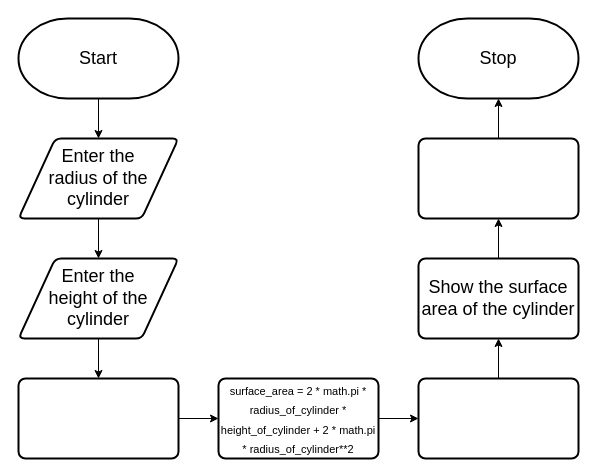
Image size: 596x476. Some labels were removed from this diagram. The box of each missing label's shape, as (x1, y1, x2, y2) in pixels:
Show the program as done: (417, 137, 579, 219)
Show the volume of the cylinder: (417, 377, 579, 459)
volume = math.pi * radius_of_cylinder**2 * height_of_cylinder: (17, 377, 179, 459)
